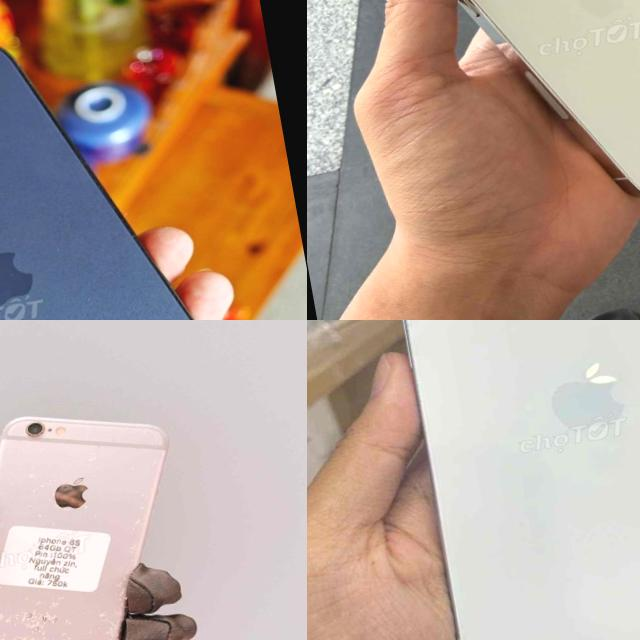scratch: (86, 470, 185, 640), (11, 444, 113, 528), (0, 571, 96, 640), (89, 405, 178, 464)
